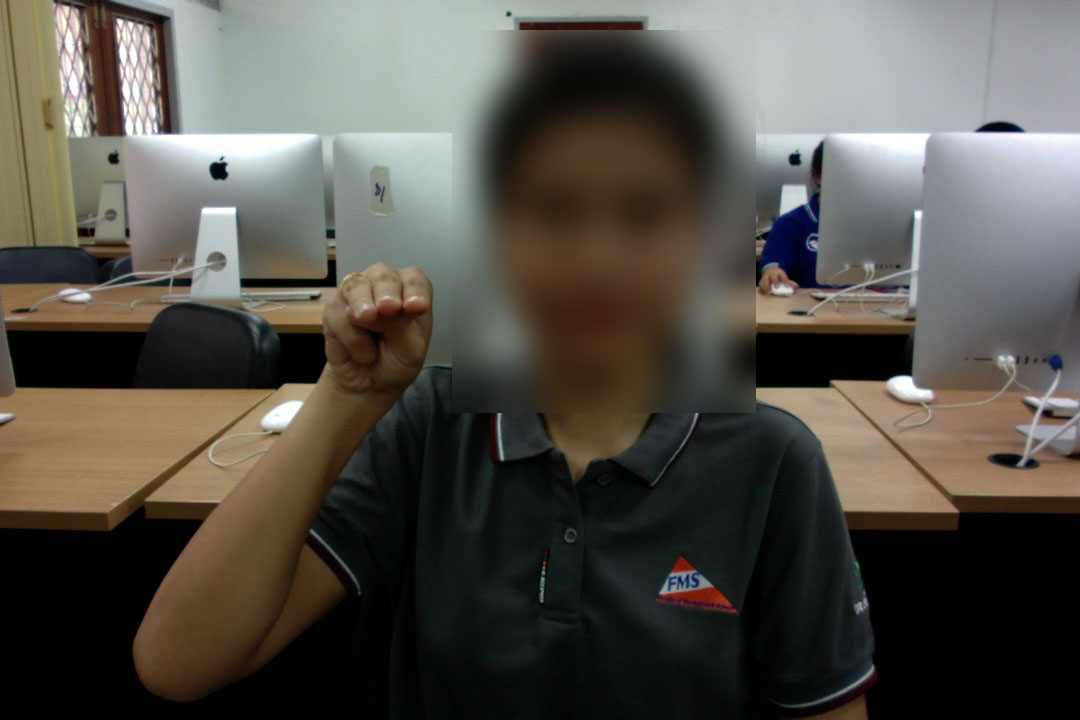mor: (320, 252, 438, 404)
